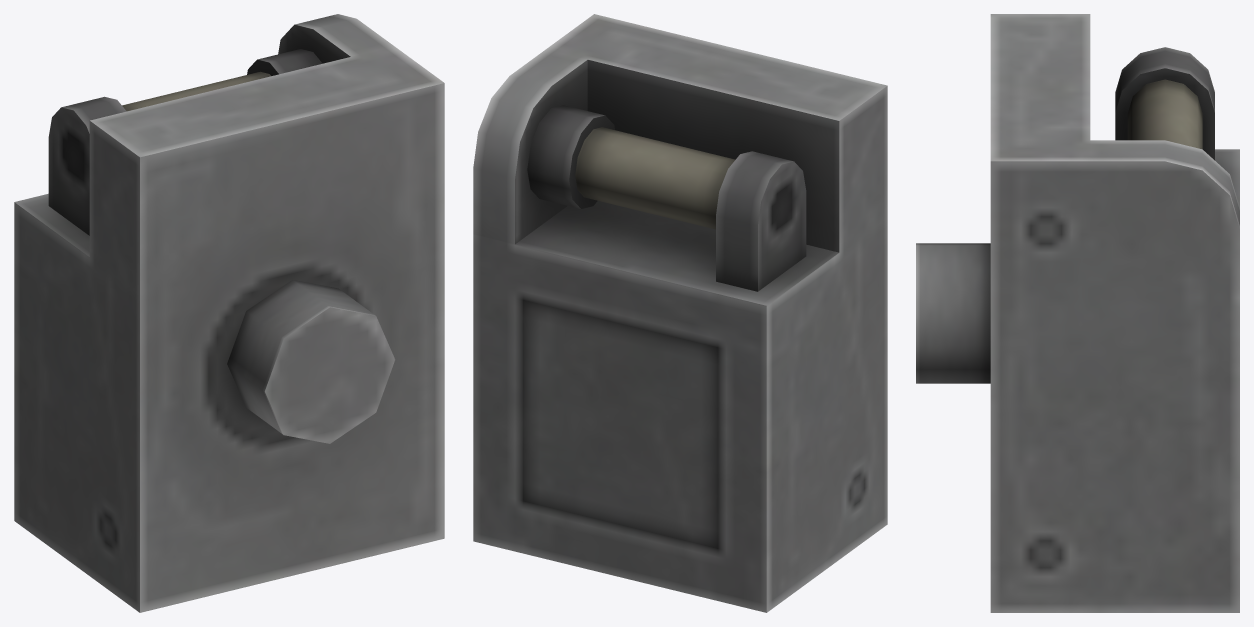
Rendered from 1mv_sensor_barometer_srf_1_compact.obj.
The picture shows the model from 3 angles, left to right: view 1: azimuth 30°, elevation 25°; view 2: azimuth 150°, elevation 25°; view 3: azimuth 270°, elevation 25°; orthographic projection. The views are drawn at different scales.
Parts seen in each view (by area): view 1: mesh1; view 2: mesh1; view 3: mesh1.
Part boxes in pixels (box(x1,y1,x2,y2)): mesh1: box(14, 14, 444, 612); mesh1: box(473, 14, 887, 612); mesh1: box(916, 14, 1239, 612).
Size of the model in its own units: 0.175 by 0.25 by 0.1625.
1 material, 1 textured.
